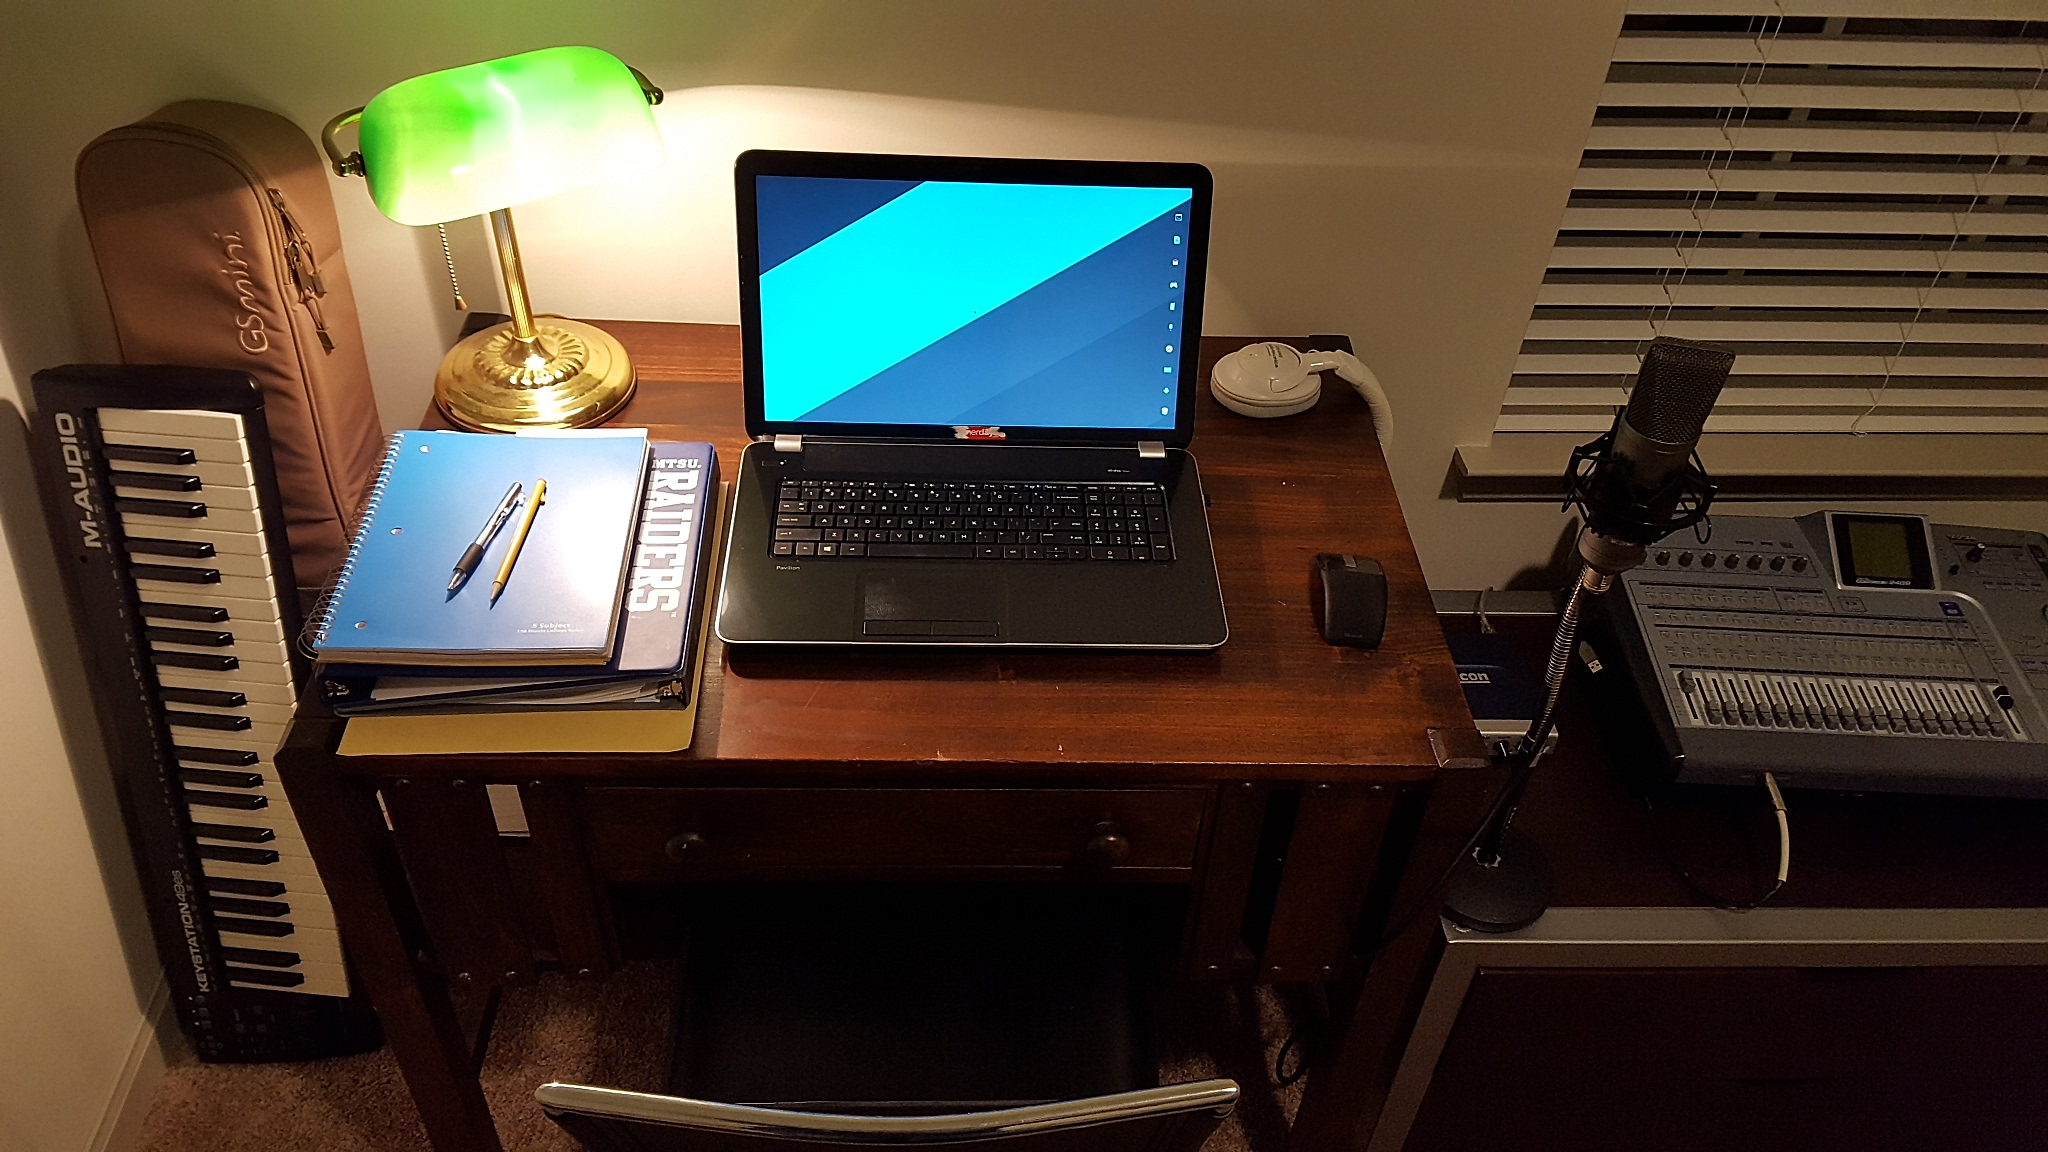Chair (Generic): (533, 920, 1241, 1152)
Desk (Generic): (280, 309, 1483, 1144)
Desktop (Generic): (715, 155, 1228, 654)
External Microphone (with Boom Arm): (1433, 333, 1737, 933)
Headphones: (1207, 338, 1394, 460)
Lamp (Desk): (322, 48, 670, 436)
Mouse (Generic): (1307, 551, 1388, 648)
Musical Instrument (Electric Guitar): (27, 366, 376, 1065)
Notebook: (300, 428, 654, 670)
